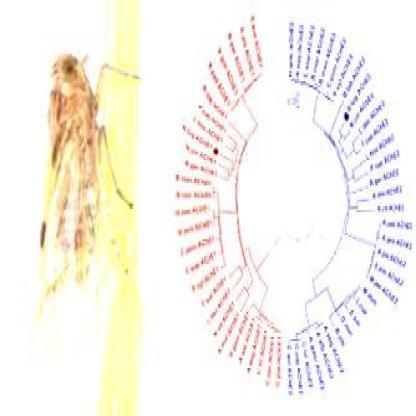brown-planthopper: (35, 49, 110, 390)
